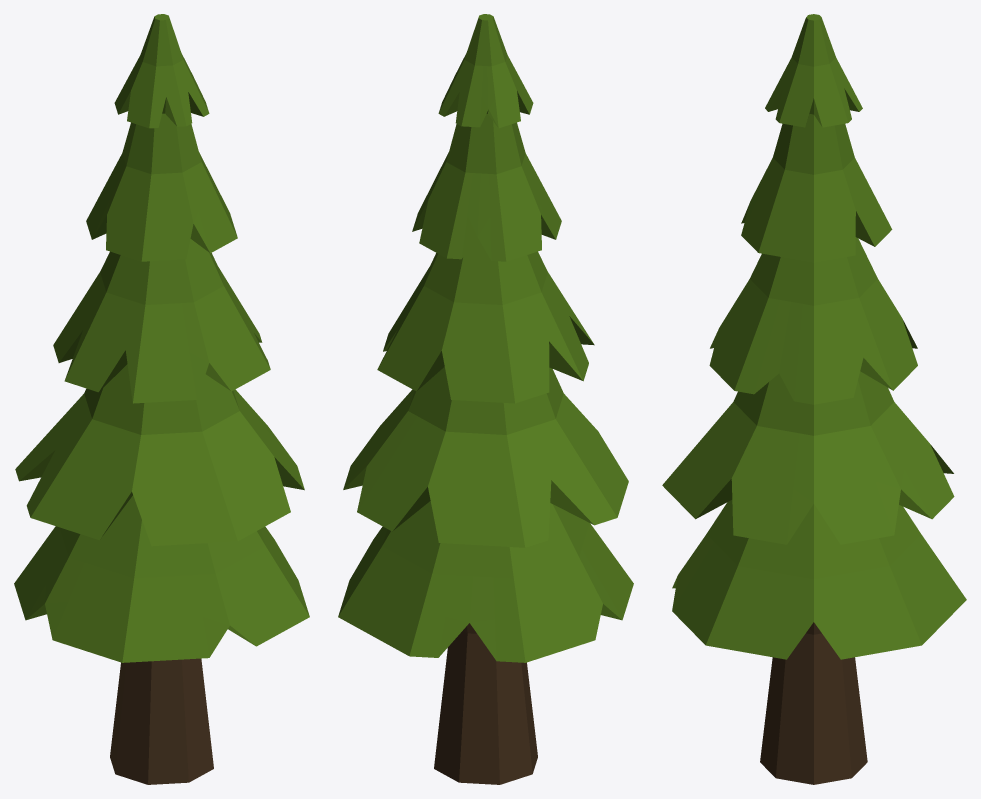
The model's file is Tree 1.fbx.
3 renders of one model, left to right at view 1: azimuth 30°, elevation 25°; view 2: azimuth 150°, elevation 25°; view 3: azimuth 270°, elevation 25°, orthographic.
Parts seen in each view (by area): view 1: Cone; view 2: Cone; view 3: Cone.
Part boxes in pixels (bbox=[...]): Cone: bbox=[14, 14, 309, 784]; Cone: bbox=[338, 14, 633, 784]; Cone: bbox=[662, 14, 966, 784].
Size of the model in its own units: 77.88 by 218 by 80.85.
